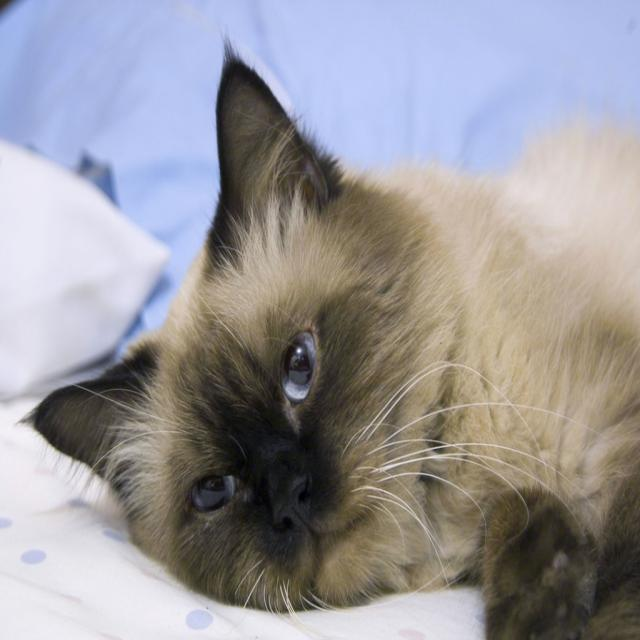Cat: (12, 23, 640, 639)
